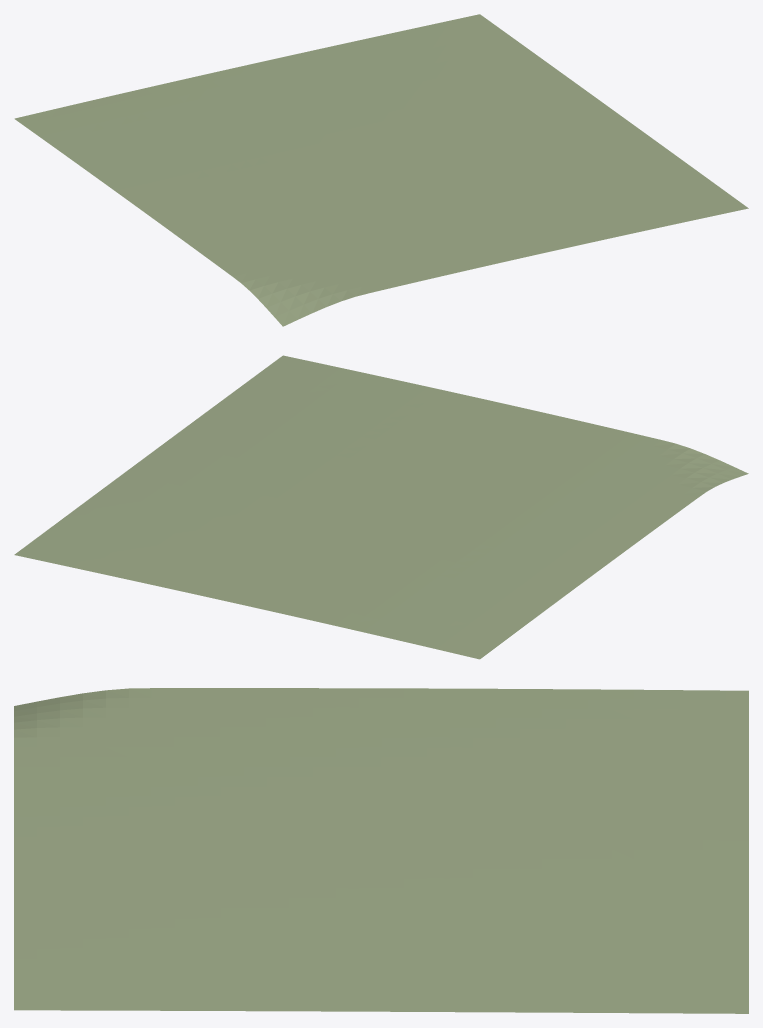
File: gardens-7-1.glb
The picture shows the model from 3 angles, top to bottom: view 1: azimuth 30°, elevation 25°; view 2: azimuth 150°, elevation 25°; view 3: azimuth 270°, elevation 25°; orthographic projection. The views are drawn at different scales.
Visible parts, largest first — view 1: gardens-7-1; view 2: gardens-7-1; view 3: gardens-7-1.
Part boxes in pixels (bbox=[...]): gardens-7-1: bbox=[14, 14, 748, 326]; gardens-7-1: bbox=[14, 355, 748, 659]; gardens-7-1: bbox=[14, 688, 748, 1013].
Size of the model in its own units: 256 by 6.92 by 256.
